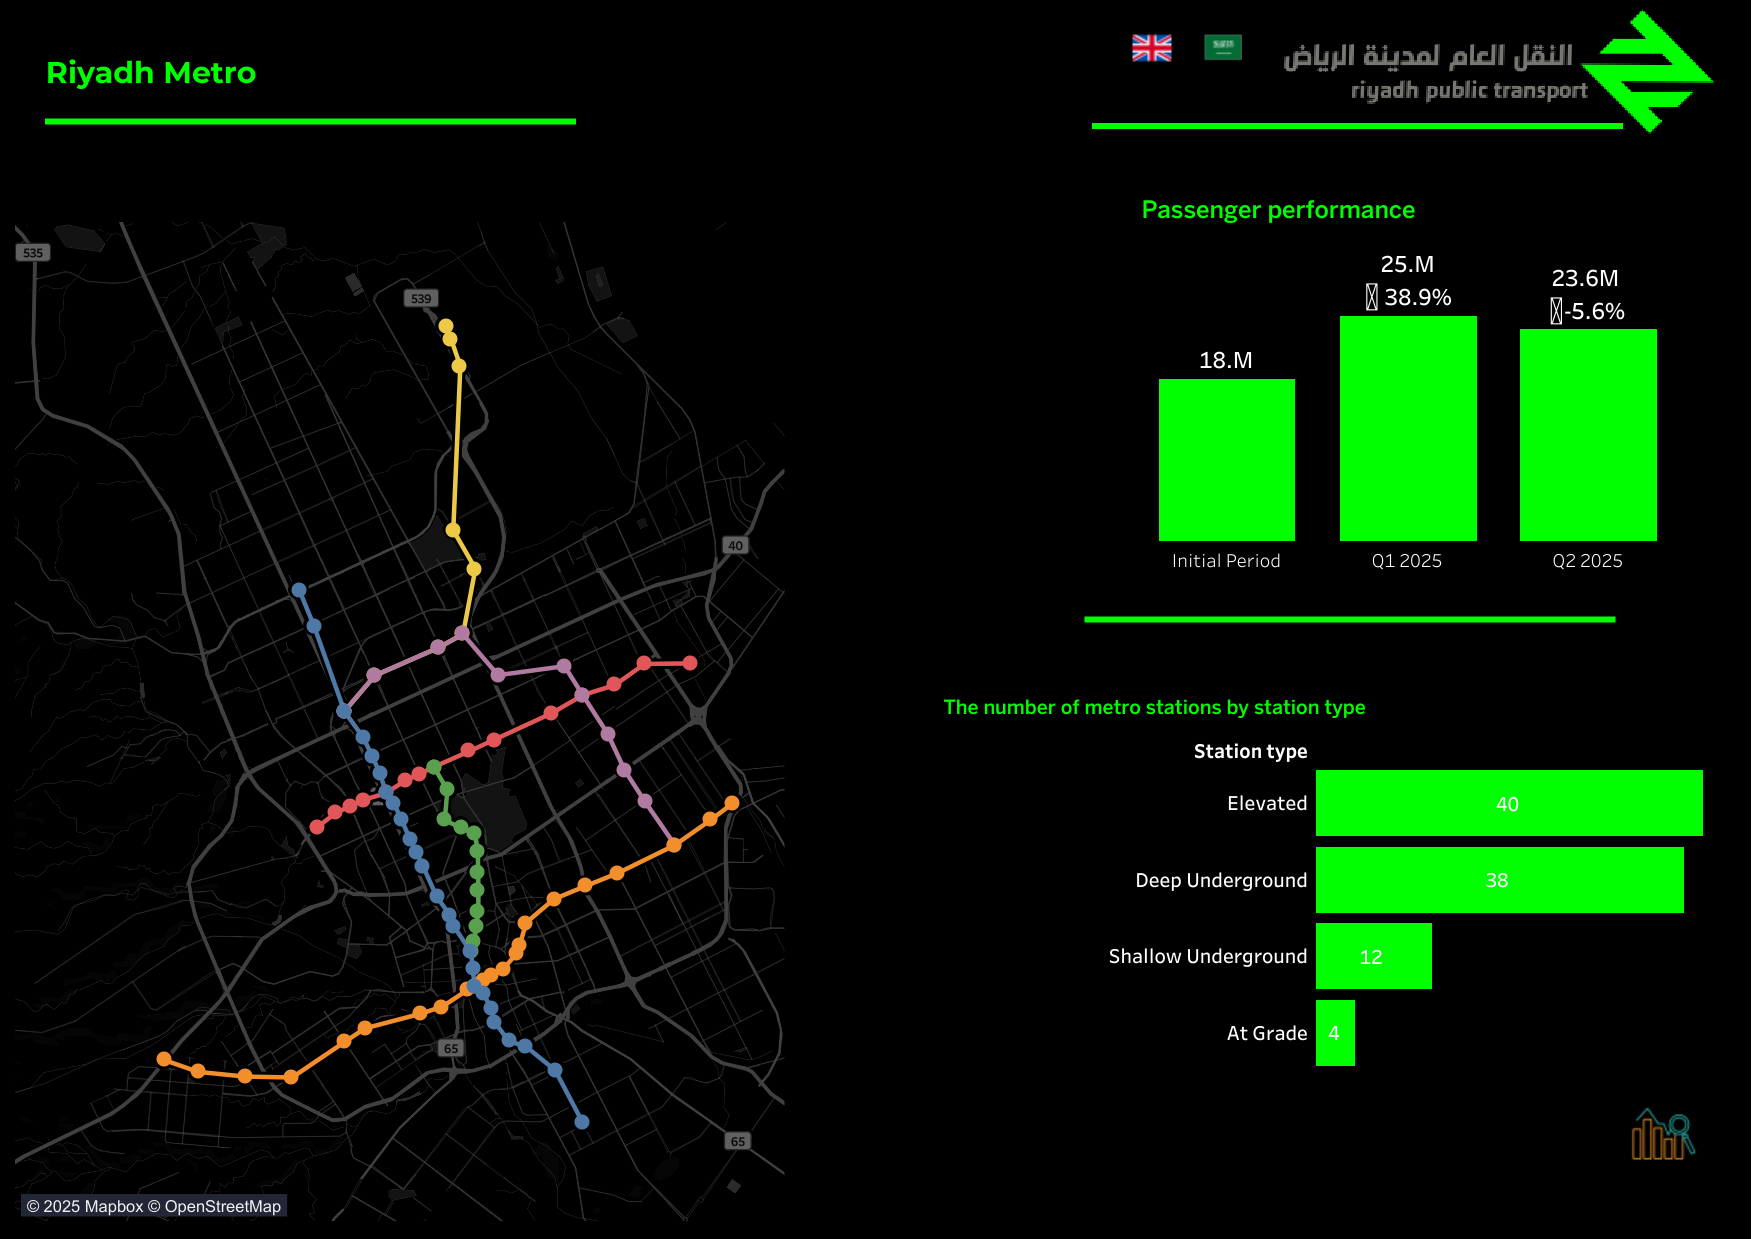

The dashboard page shown, as its layout file describes it:
{"tool":"tableau","page":{"name":"English","canvas":[1169,827],"ordinal":1},"visuals":[{"type":"image","param":"Image/layout_set_logo.png","box":[837,6,325,133]},{"type":"text","box":[28,19,374,57]},{"type":"dashboard-object","box":[748,19,41,26]},{"type":"dashboard-object","box":[797,19,37,25]},{"type":"blank","box":[30,79,354,4]},{"type":"blank","box":[728,82,354,4]},{"type":"worksheet","title":"pass","mark":"Automatic","rows":["Passengers (M)"],"cols":["Period"],"box":[757,123,362,259]},{"type":"worksheet","title":"english","mark":"Line","rows":["Latitude"],"cols":["Longitude"],"box":[10,133,513,681]},{"type":"blank","box":[723,411,354,4]},{"type":"worksheet","title":"count of station type","mark":"Automatic","rows":["Station type"],"cols":["Station type"],"box":[625,457,523,256]},{"type":"image","param":"Image/شعار بدون خلفية 1.png","box":[1062,718,96,95]}]}

Visuals, with their boxes in screenshot pixels (x1, y1, x2, y2), scaled from the page's 1169x827 canvas onto the 1752x1239 screenshot:
image: [1254,9,1742,208]
text: [42,28,602,114]
dashboard-object: [1121,28,1182,67]
dashboard-object: [1194,28,1250,66]
blank: [45,118,576,124]
blank: [1091,123,1622,129]
"pass" worksheet: [1135,184,1677,572]
"english" worksheet (Line marks): [15,199,784,1220]
blank: [1084,616,1614,622]
"count of station type" worksheet: [937,685,1721,1068]
image: [1592,1076,1736,1218]
